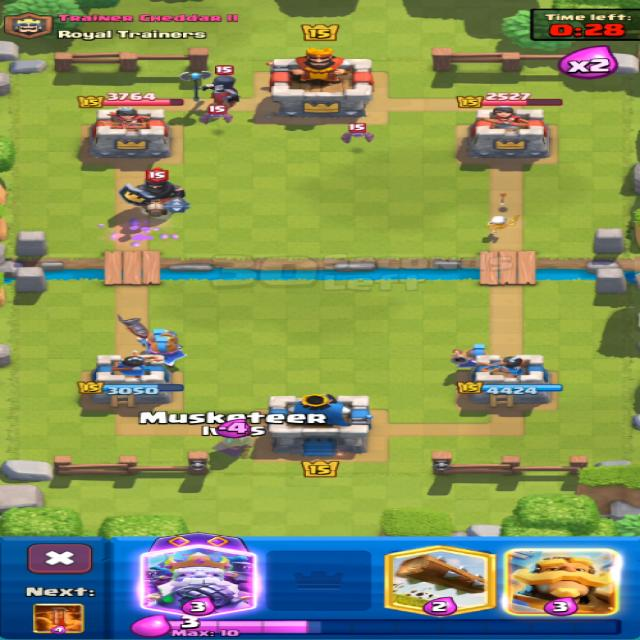Enemy-Bat: (342, 123, 374, 143), (200, 105, 232, 124)
Enemy-DarkPrince-Shield: (120, 170, 187, 217)
Enemy-KingTower: (269, 47, 372, 117)
Enemy-NightWitch: (201, 75, 239, 111)
Enemy-PrincessTower: (90, 107, 170, 160), (468, 106, 549, 158)
